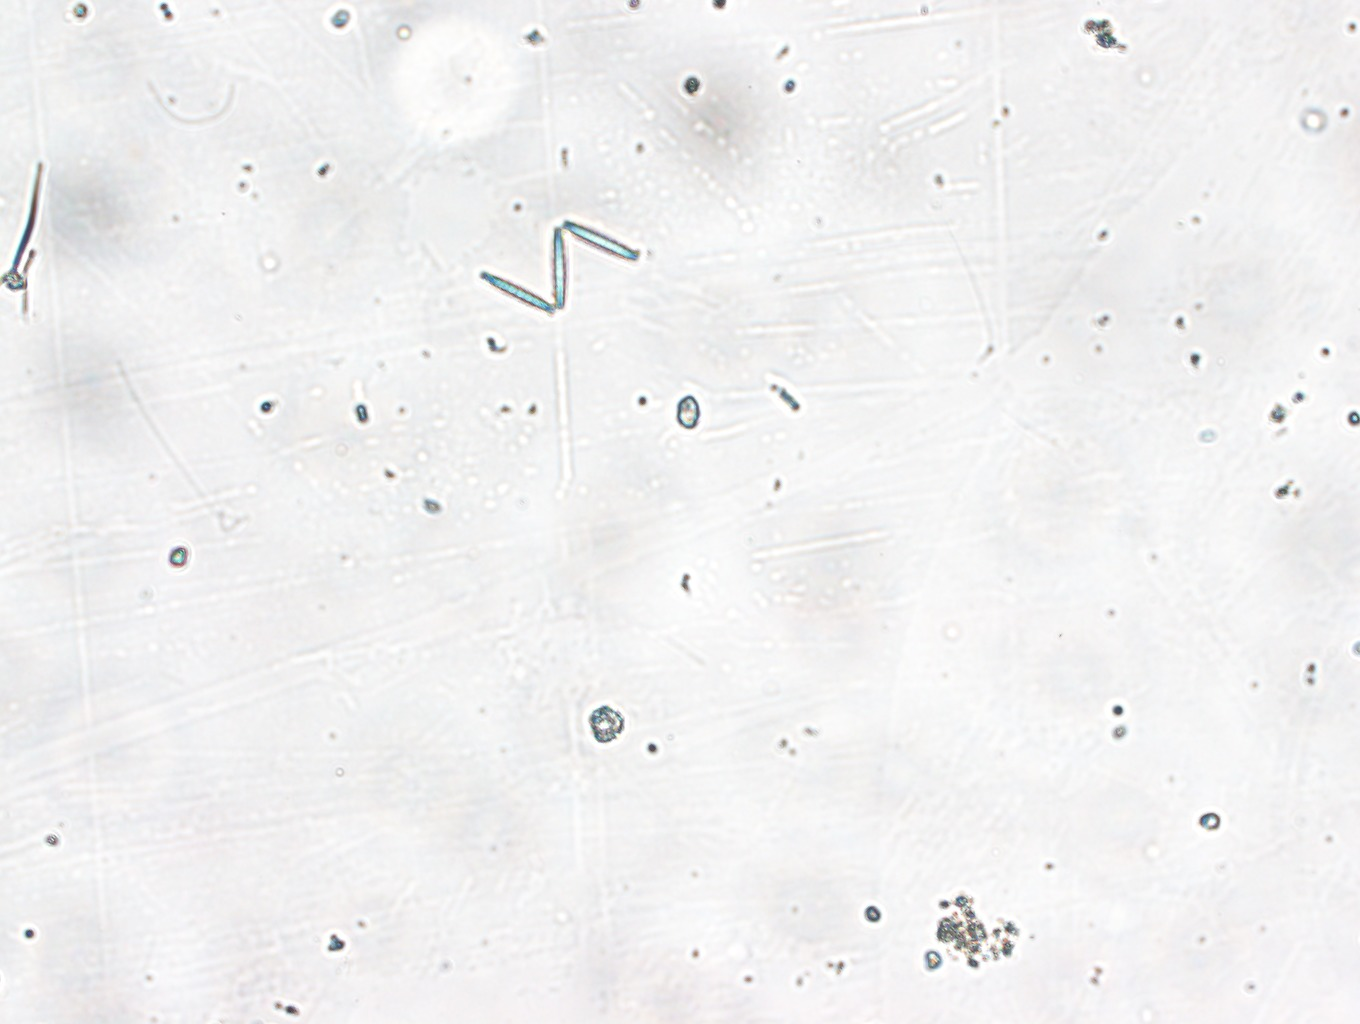thalassionema nitzschioides: (478, 222, 635, 318)
